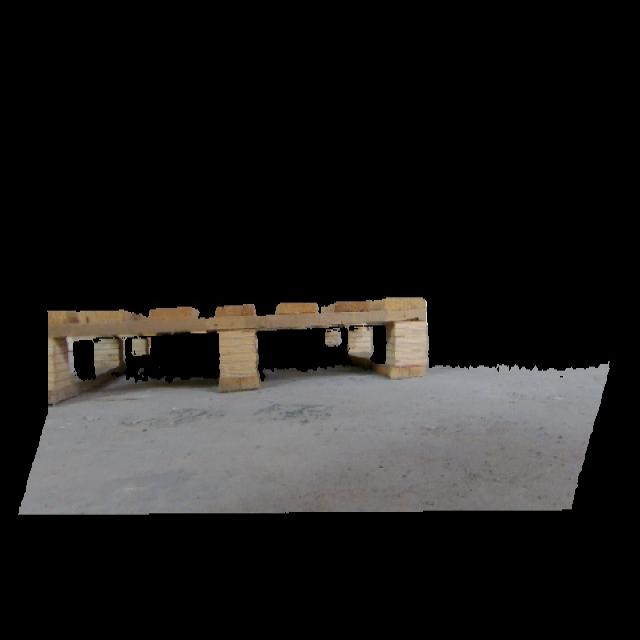block: (214, 330, 260, 390), (46, 343, 88, 402), (390, 324, 432, 374), (96, 338, 128, 379), (345, 328, 373, 362), (326, 328, 343, 353), (134, 333, 151, 356)
front: (40, 295, 432, 406)
